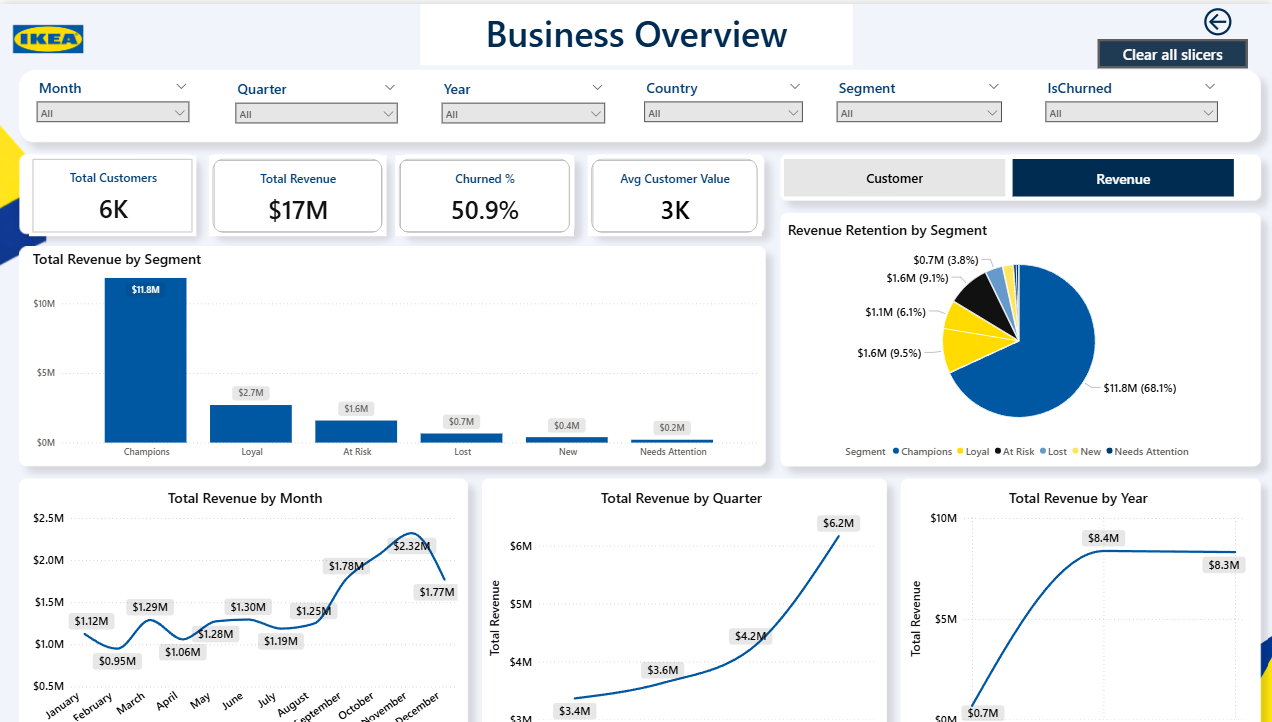

What the dashboard file says about the page in this screenshot:
{"tool":"powerbi","page":{"name":"Overview","canvas":[1700,1000],"ordinal":0},"visuals":[{"type":"cardVisual","fields":{"Data":["Sheet1.Total Customers"]},"box":[40,201.7,223.3,108.3],"z":0},{"type":"columnChart","fields":{"Category":["Sheet1.Segment"],"Y":["Sheet1.Total Revenure"]},"box":[40,326.6,976.7,288.3],"z":0,"group":"g1"},{"type":"cardVisual","fields":{"Data":["Sheet1.Total Revenue"]},"box":[280,201.7,236.7,108.3],"z":1000},{"type":"lineChart","fields":{"Category":["Sheet1.InvoiceDate.Variation.Date Hierarchy.Month"],"Y":["Sheet1.Total Revenue"]},"box":[40,645,576.7,343.3],"z":1000,"group":"g1"},{"type":"cardVisual","fields":{"Data":["Sheet1.Churned %"]},"box":[528.3,201.7,238.3,108.3],"z":2000},{"type":"lineChart","fields":{"Category":["Sheet1.InvoiceDate.Variation.Date Hierarchy.Year"],"Y":["Sheet1.Total Revenue"]},"box":[1210,645,458.3,343.3],"z":2000,"group":"g1"},{"type":"cardVisual","fields":{"Data":["Sheet1.Avg Customer Value"]},"box":[785,201.7,231.7,108.3],"z":3000},{"type":"lineChart","fields":{"Y":["Sheet1.Total Revenue"],"Category":["Sheet1.InvoiceDate.Variation.Date Hierarchy.Quarter"]},"box":[648.3,645,523.3,343.3],"z":3000,"group":"g1"},{"type":"slicer","fields":{"Values":["Sheet1.InvoiceDate.Variation.Date Hierarchy.Month"]},"box":[40,93.3,223.3,85],"z":4000},{"type":"pieChart","title":"Revenue Retention by Segment ","fields":{"Y":["Sheet1.Total Revenue"],"Series":["Sheet1.IsChurned"],"Category":["Sheet1.Segment"]},"box":[1046.7,288.3,626.7,326.7],"z":4000,"group":"g1"},{"type":"slicer","fields":{"Values":["Sheet1.InvoiceDate.Variation.Date Hierarchy.Quarter"]},"box":[305,95,236.7,85],"z":5000},{"type":"slicer","fields":{"Values":["Sheet1.InvoiceDate.Variation.Date Hierarchy.Year"]},"box":[580,95,238.3,85],"z":6000},{"type":"slicer","fields":{"Values":["Sheet1.Country"]},"box":[850,93.3,231.7,85],"z":7000},{"type":"slicer","fields":{"Values":["Sheet1.Segment"]},"box":[1106.7,93.3,240,85],"z":8000},{"type":"slicer","fields":{"Values":["Sheet1.IsChurned"]},"box":[1385,93.3,250,85],"z":9000},{"type":"bookmarkNavigator","box":[1061.7,206.7,503.3,50],"z":10000},{"type":"group","id":"g1","title":"Revenue","box":[40,288.3,1633.3,700],"z":11000},{"type":"bookmarkNavigator","box":[1046.7,206.7,600,50],"z":13000},{"type":"image","box":[0,0,131.7,93.3],"z":14000},{"type":"textbox","box":[561.7,0,576.7,81.7],"z":15000},{"type":"actionButton","box":[1574.6,0,100,47.5],"z":16000},{"type":"actionButton","box":[1464.4,47.5,200,39],"z":17000}]}

Visuals, with their boxes on the page's 1700x1000 design canvas (x1, y1, x2, y2). These are canvas units, not pixel positions in the 1272x722 screenshot, which may show the page scaled, cropped or inside an application window:
cardVisual - Sheet1.Total Customers: rect(40, 202, 263, 310)
columnChart - Sheet1.Segment x Sheet1.Total Revenure: rect(40, 327, 1017, 615)
cardVisual - Sheet1.Total Revenue: rect(280, 202, 517, 310)
lineChart - Sheet1.InvoiceDate.Variation.Date Hierarchy.Month x Sheet1.Total Revenue: rect(40, 645, 617, 988)
cardVisual - Sheet1.Churned %: rect(528, 202, 767, 310)
lineChart - Sheet1.InvoiceDate.Variation.Date Hierarchy.Year x Sheet1.Total Revenue: rect(1210, 645, 1668, 988)
cardVisual - Sheet1.Avg Customer Value: rect(785, 202, 1017, 310)
lineChart - Sheet1.Total Revenue x Sheet1.InvoiceDate.Variation.Date Hierarchy.Quarter: rect(648, 645, 1172, 988)
slicer - Sheet1.InvoiceDate.Variation.Date Hierarchy.Month: rect(40, 93, 263, 178)
"Revenue Retention by Segment " pieChart: rect(1047, 288, 1673, 615)
slicer - Sheet1.InvoiceDate.Variation.Date Hierarchy.Quarter: rect(305, 95, 542, 180)
slicer - Sheet1.InvoiceDate.Variation.Date Hierarchy.Year: rect(580, 95, 818, 180)
slicer - Sheet1.Country: rect(850, 93, 1082, 178)
slicer - Sheet1.Segment: rect(1107, 93, 1347, 178)
slicer - Sheet1.IsChurned: rect(1385, 93, 1635, 178)
bookmarkNavigator: rect(1062, 207, 1565, 257)
"Revenue" group: rect(40, 288, 1673, 988)
bookmarkNavigator: rect(1047, 207, 1647, 257)
image: rect(0, 0, 132, 93)
textbox: rect(562, 0, 1138, 82)
actionButton: rect(1575, 0, 1675, 48)
actionButton: rect(1464, 48, 1664, 86)
